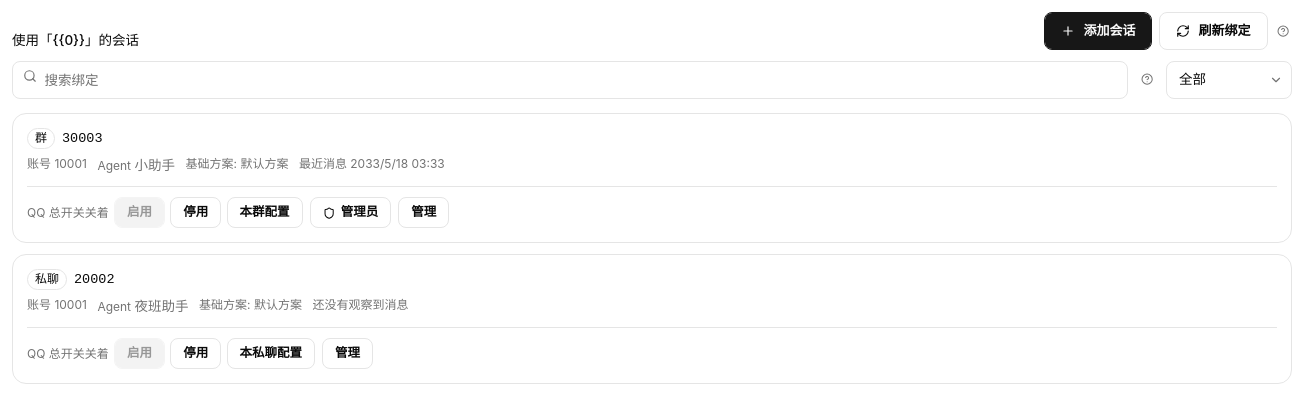
Test: 使用会话绑定视图 › 按号码、Agent 搜索并可按群/私聊筛选，最近消息按观察行显示
Expected: the text "30003" is shown, [62,129,102,148]
Expected: the text "20002" is shown, [74,270,114,289]
Select "私聊" in the dropdown named "会话类型" at point(1229, 80), box [1166,60,1292,98]
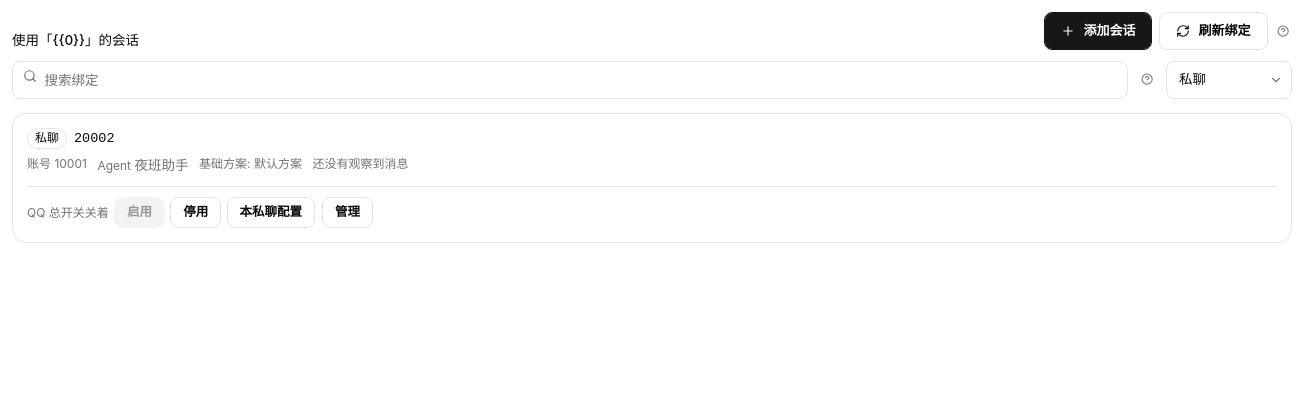
Expected: the text "20002" is shown, [74,129,114,148]
Expected: the text "30003" is gone
Select "全部" in the dropdown named "会话类型" at point(1229, 80), box [1166,60,1292,98]
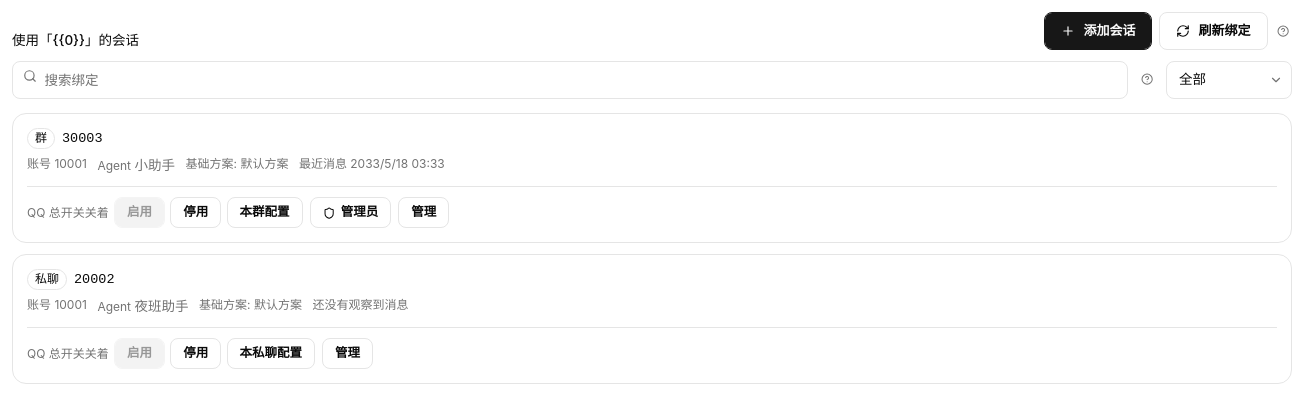
Type "夜班" into the field named "搜索会话绑定" at point(570, 80), box [12,60,1128,98]
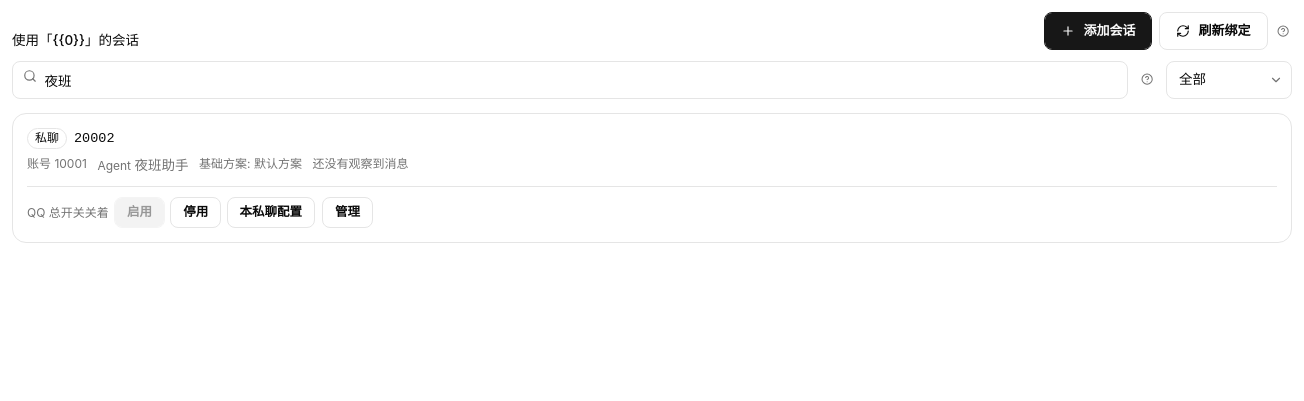
Expected: the text "20002" is shown, [74,129,114,148]
Expected: the text "30003" is gone
Replace the text in the field named "搜索会话绑定" with "不存在" at point(570, 80), box [12,60,1128,98]
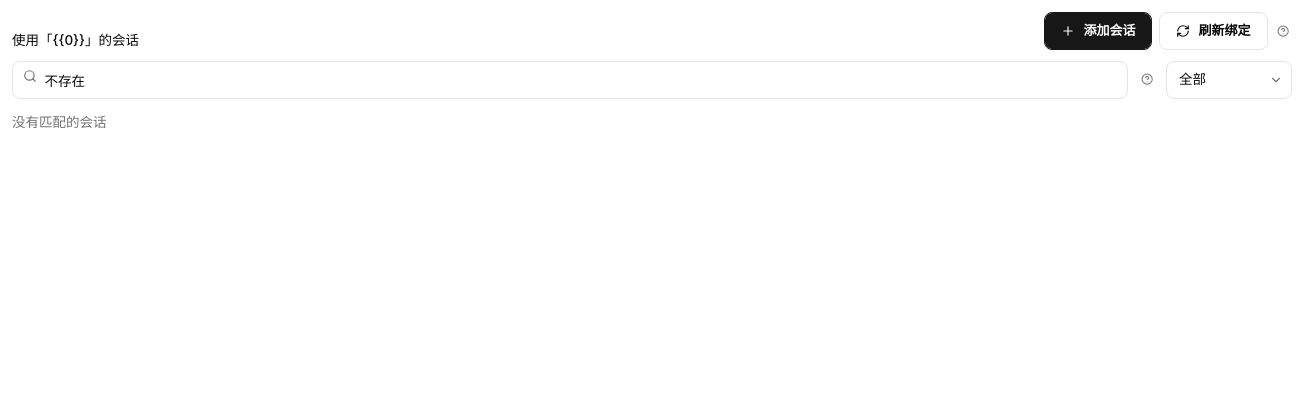
Expected: the text "没有匹配的会话" is shown, [12,114,106,130]
